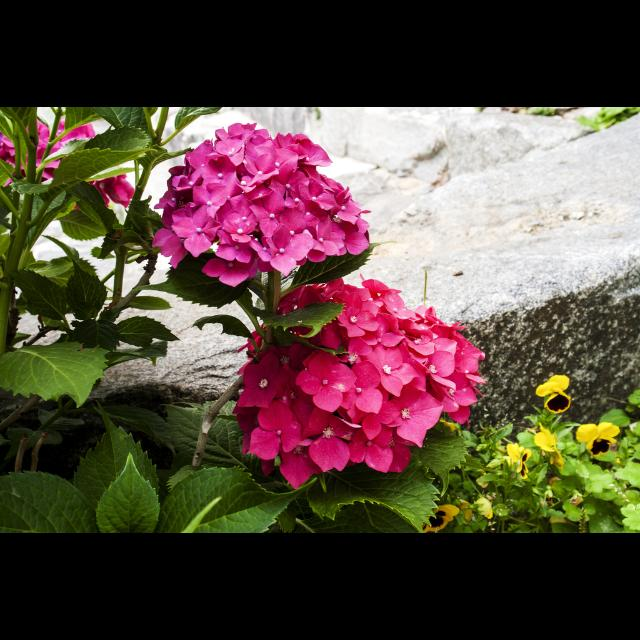Flower: (222, 278, 508, 486), (150, 120, 372, 292), (0, 115, 136, 215), (575, 422, 619, 458), (534, 375, 572, 413), (534, 426, 560, 472), (502, 444, 530, 478), (424, 507, 460, 533), (464, 499, 492, 517)
